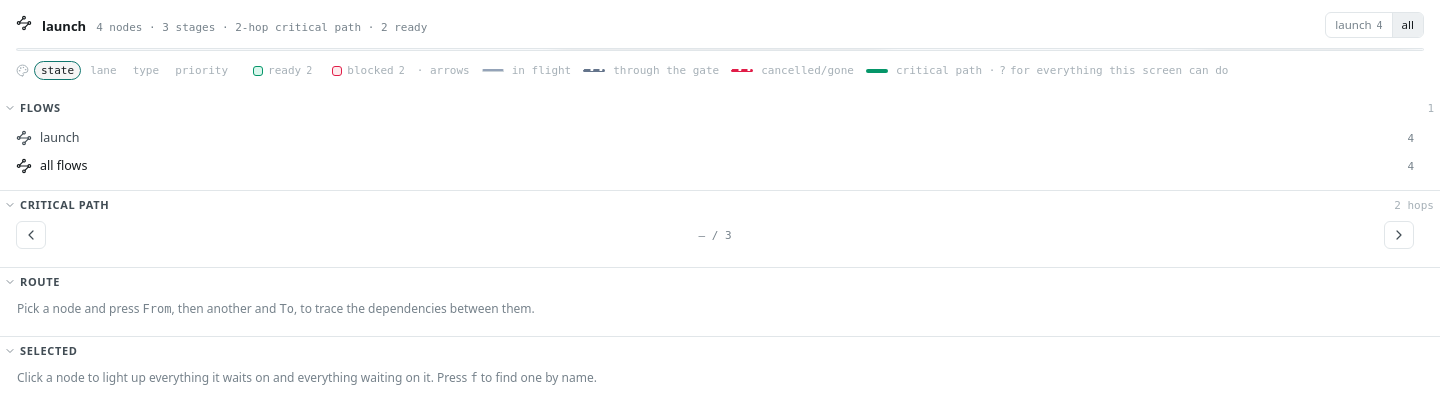
Test: the reading layer › switches what the colours mean, and the legend follows
The width and height of the screenshot is (1440, 402).
What coordinates should you click on to do the following:
click the button with class "lensb" showing "type"
I would click on:
 (146, 70)
Its box is left=126, top=61, right=166, bottom=80.
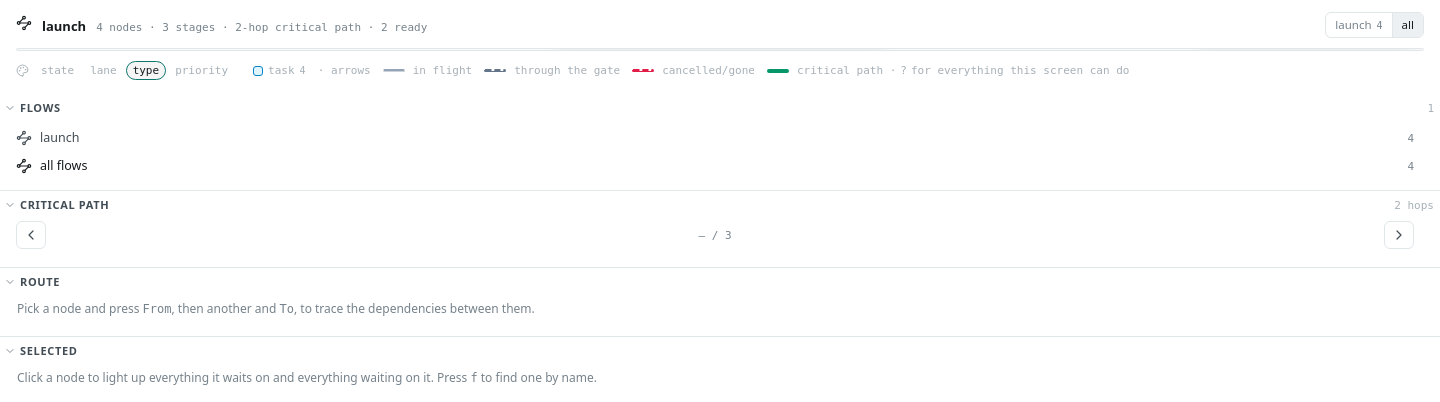
Now the text "task" is shown, box left=245, top=61, right=314, bottom=80
